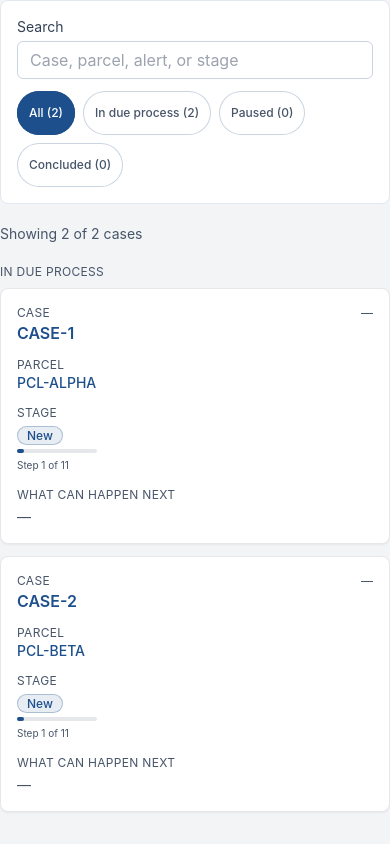
CasesTable — mobile card presentation › filters and buckets the card list the same way it filters the table
The width and height of the screenshot is (390, 844).
Step 1. Type "BETA" into the search field named "Search cases" → {"x": 195, "y": 60}, box top-left (17, 41), bottom-right (373, 79)
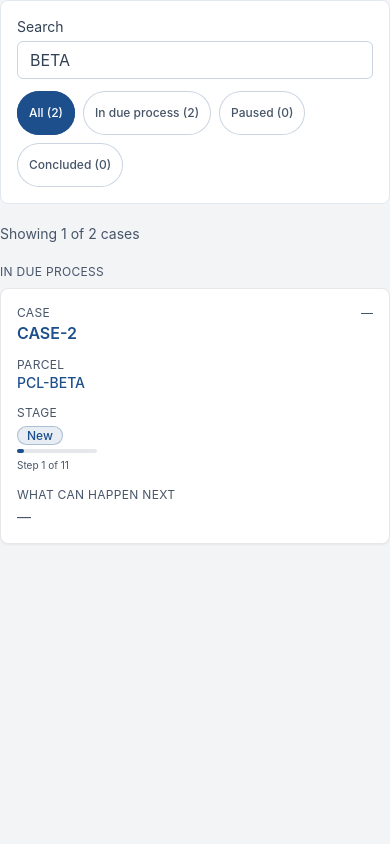
Expected: the number of list items with test id "case-card" is 1, top-left (0, 288), bottom-right (389, 544)
